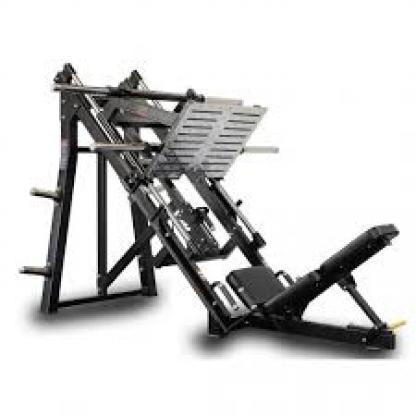leg press: (15, 55, 408, 362)
